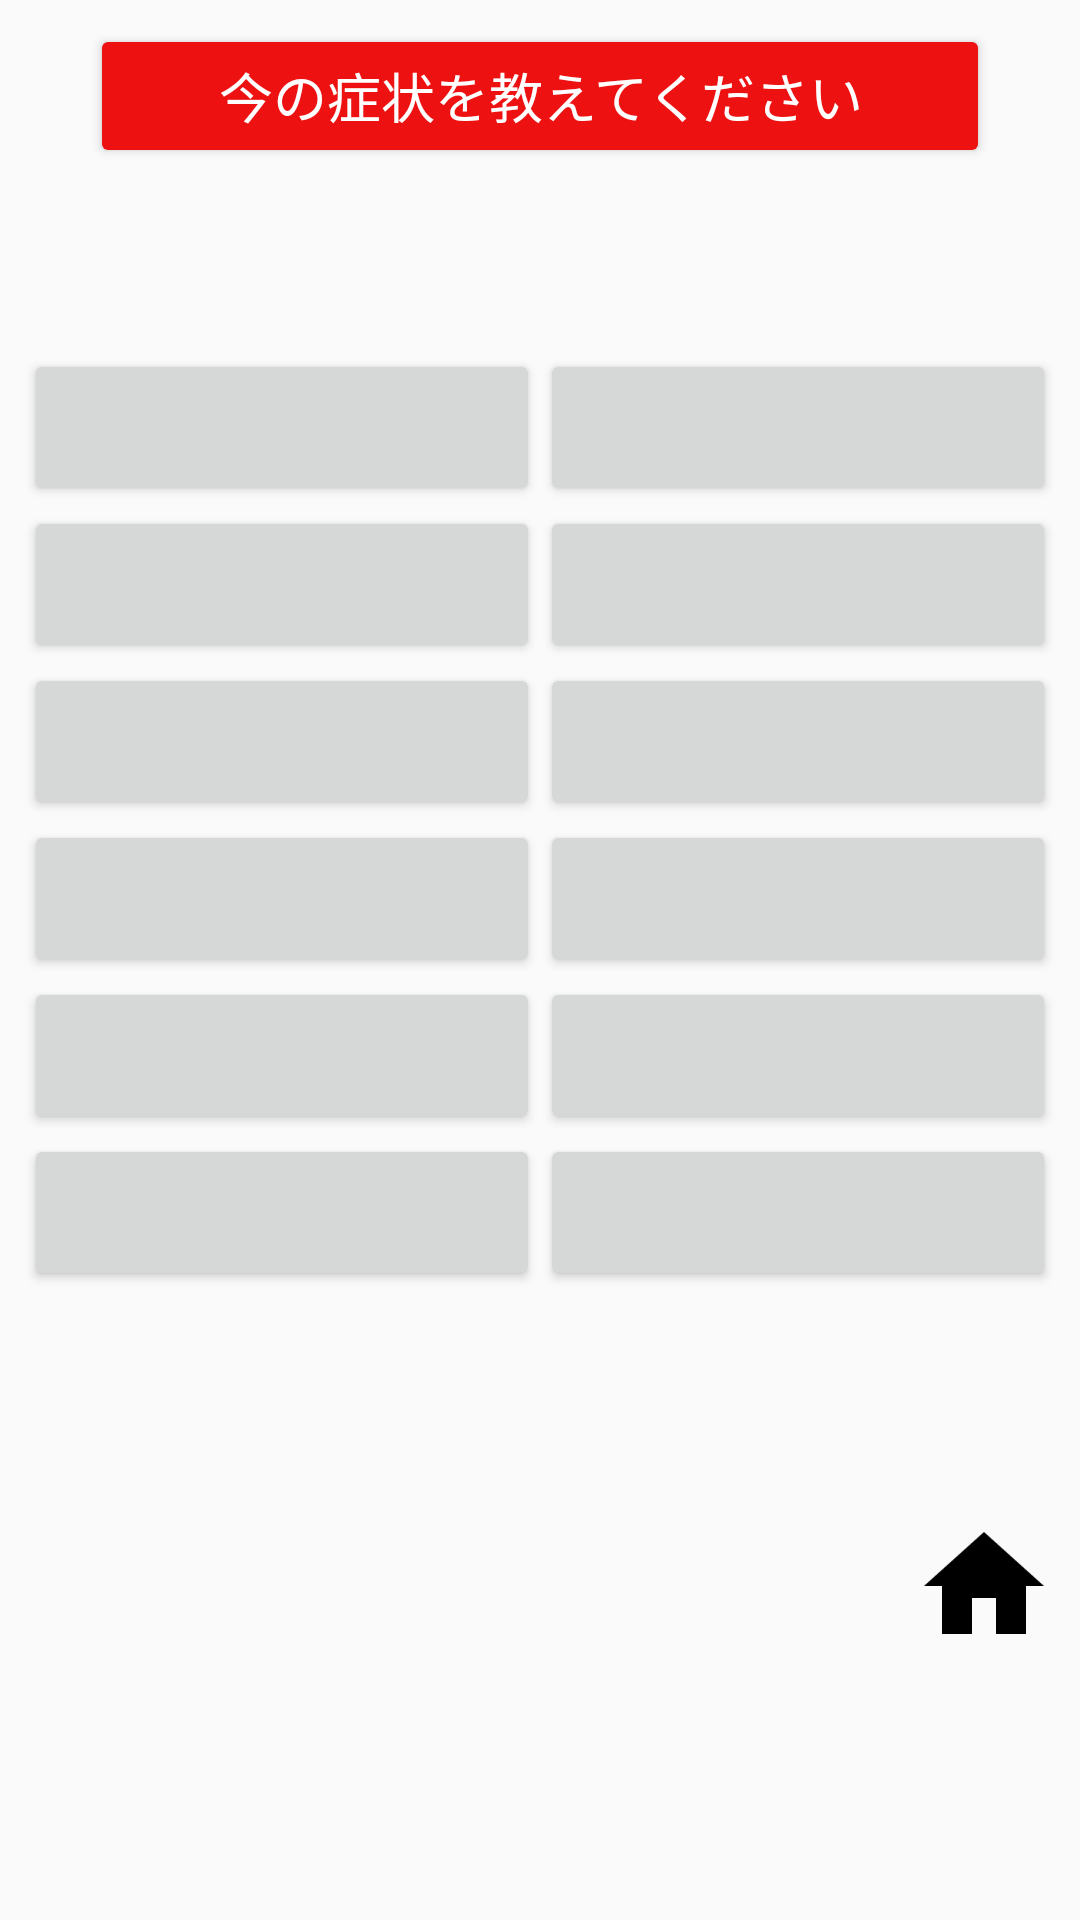

Screen size 1080*1920. Icon name, then its center in pixels as (x=x, y=y):
home: (x=984, y=1583)
